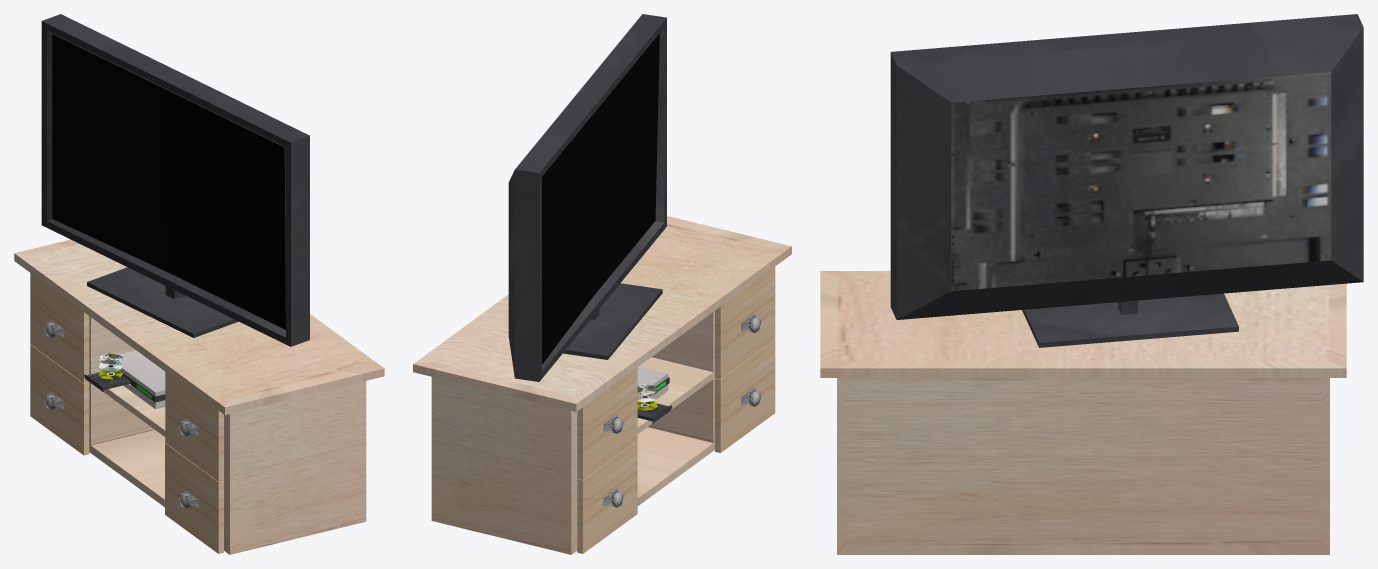
The model's file is tv woredrobe.FBX.
The picture shows the model from 3 angles, left to right: view 1: azimuth 30°, elevation 25°; view 2: azimuth 150°, elevation 25°; view 3: azimuth 270°, elevation 25°; orthographic projection. The views are drawn at different scales.
Visible parts, largest first — view 1: Box001, Object013, Box003, Object007, Object003, Object005, Object001, Box002; view 2: Box001, Object013, Box003, Object007, Object003, Object005, Object001, Box002; view 3: Box001, Object014, Box003.
Boxes of the visible parts, x1,y1,x2,y2 form: Box001: (14, 239, 384, 554); Object013: (52, 34, 285, 329); Box003: (41, 14, 309, 346); Object007: (30, 344, 89, 455); Object003: (165, 443, 223, 553); Object005: (30, 273, 89, 383); Object001: (165, 372, 223, 481); Box002: (108, 350, 165, 409); Box001: (413, 216, 791, 554); Object013: (542, 33, 659, 364); Box003: (508, 14, 666, 381); Object007: (577, 440, 637, 553); Object003: (715, 340, 775, 452); Object005: (577, 367, 637, 479); Object001: (715, 267, 775, 379); Box002: (637, 366, 668, 398); Box001: (820, 271, 1346, 554); Object014: (951, 72, 1331, 291); Box003: (890, 14, 1363, 347).
Bounding box in the file's own units: 34.16 × 74.16 × 77.49.
Materials: 13 (13 with a texture image).
